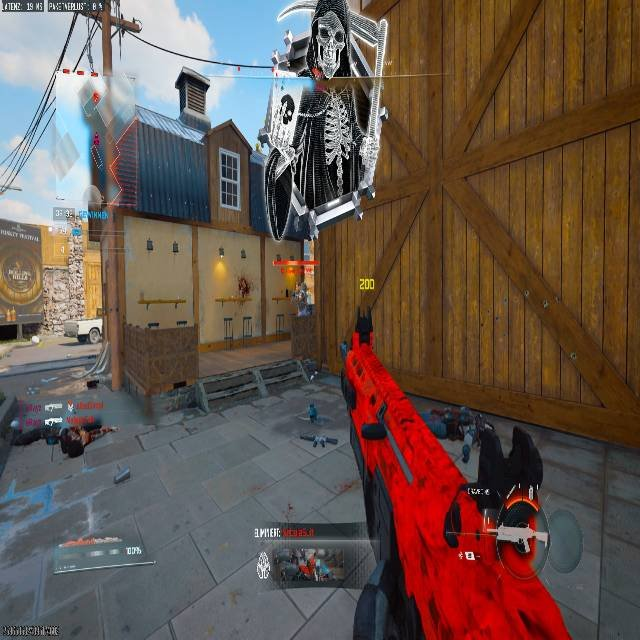head: (59, 428, 84, 458)
player: (295, 281, 309, 315)
